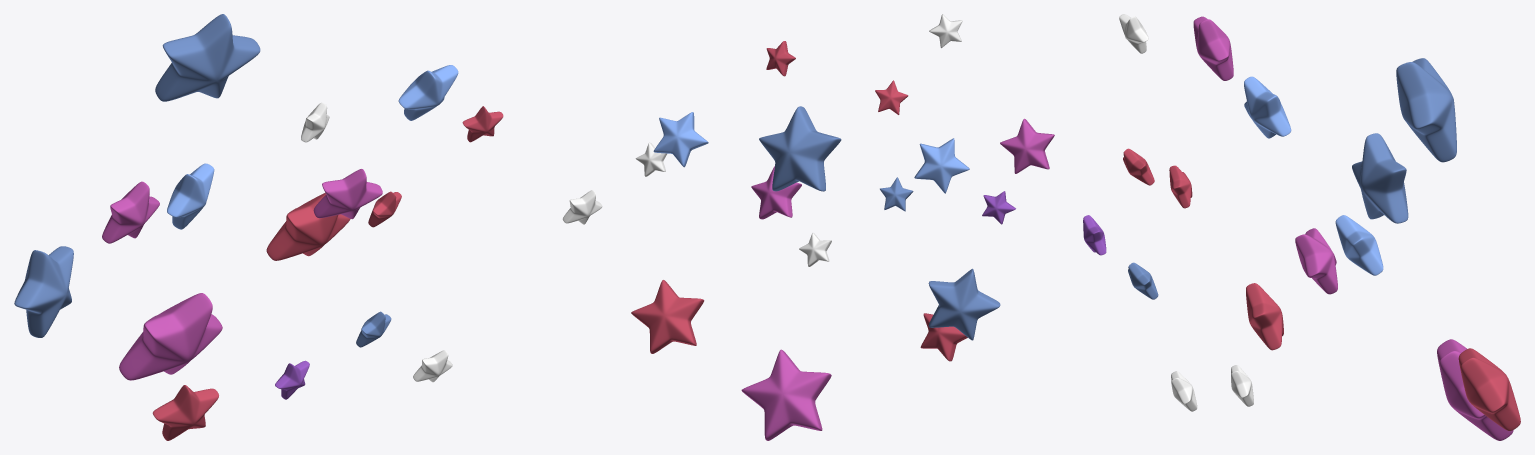
The model's file is stars.obj.
3 renders of one model, left to right at view 1: azimuth 30°, elevation 25°; view 2: azimuth 150°, elevation 25°; view 3: azimuth 270°, elevation 25°, orthographic. The views are drawn at different scales.
Visible parts, largest first — view 1: Cylinder.001, Cylinder, Cylinder.003, Cylinder.002, Cylinder.008, Cylinder.007, Cylinder.015, Cylinder.013, Cylinder.011, Cylinder.005, Cylinder.009, Cylinder.004 (+4 smaller); view 2: Cylinder, Cylinder.001, Cylinder.003, Cylinder.002, Cylinder.015, Cylinder.013, Cylinder.011, Cylinder.007, Cylinder.008, Cylinder.004, Cylinder.006, Cylinder.014 (+4 smaller); view 3: Cylinder.001, Cylinder.003, Cylinder.002, Cylinder, Cylinder.007, Cylinder.011, Cylinder.008, Cylinder.015, Cylinder.013, Cylinder.014, Cylinder.005, Cylinder.010 (+4 smaller).
Boxes of the visible parts, x1,y1,x2,y2 form: Cylinder.001: (155, 14, 260, 101); Cylinder: (119, 293, 222, 380); Cylinder.003: (14, 246, 73, 337); Cylinder.002: (266, 193, 350, 260); Cylinder.008: (152, 385, 218, 440); Cylinder.007: (313, 169, 382, 219); Cylinder.015: (102, 181, 159, 243); Cylinder.013: (398, 65, 458, 120); Cylinder.011: (167, 163, 214, 229); Cylinder.005: (462, 106, 503, 142); Cylinder.009: (562, 190, 602, 224); Cylinder.004: (275, 360, 309, 399); Cylinder: (741, 349, 831, 440); Cylinder.001: (759, 106, 841, 191); Cylinder.003: (928, 268, 1000, 340); Cylinder.002: (631, 280, 704, 353); Cylinder.015: (1000, 118, 1054, 173); Cylinder.013: (653, 112, 708, 167); Cylinder.011: (914, 138, 969, 193); Cylinder.007: (751, 166, 801, 219); Cylinder.008: (920, 313, 967, 361); Cylinder.004: (982, 191, 1015, 224); Cylinder.006: (799, 233, 831, 266); Cylinder.014: (929, 14, 962, 48); Cylinder.001: (1396, 58, 1456, 162); Cylinder.003: (1352, 133, 1408, 223); Cylinder.002: (1458, 348, 1520, 430); Cylinder: (1437, 339, 1513, 440); Cylinder.007: (1295, 228, 1337, 294); Cylinder.011: (1244, 76, 1291, 138); Cylinder.008: (1246, 283, 1283, 350); Cylinder.015: (1193, 16, 1233, 80); Cylinder.013: (1335, 215, 1383, 275); Cylinder.014: (1119, 14, 1148, 53); Cylinder.005: (1169, 165, 1192, 208); Cylinder.010: (1123, 148, 1154, 185).
Size of the model in its own units: 11.51 by 8.72 by 8.48.
